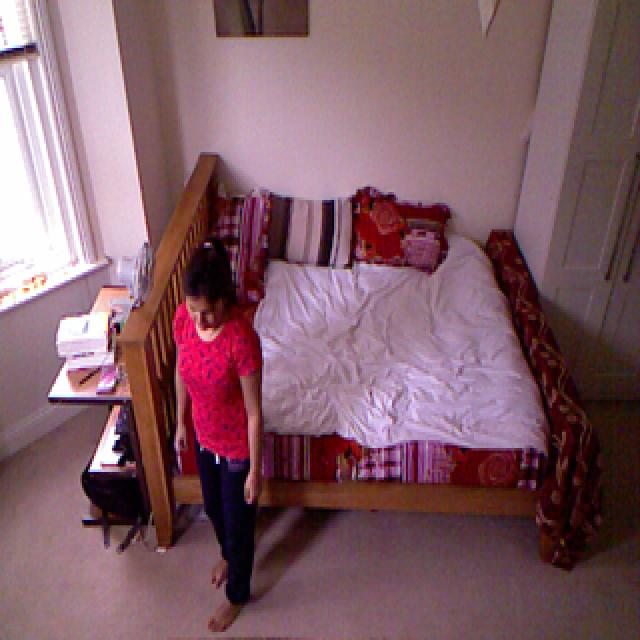standing: (166, 241, 264, 632)
